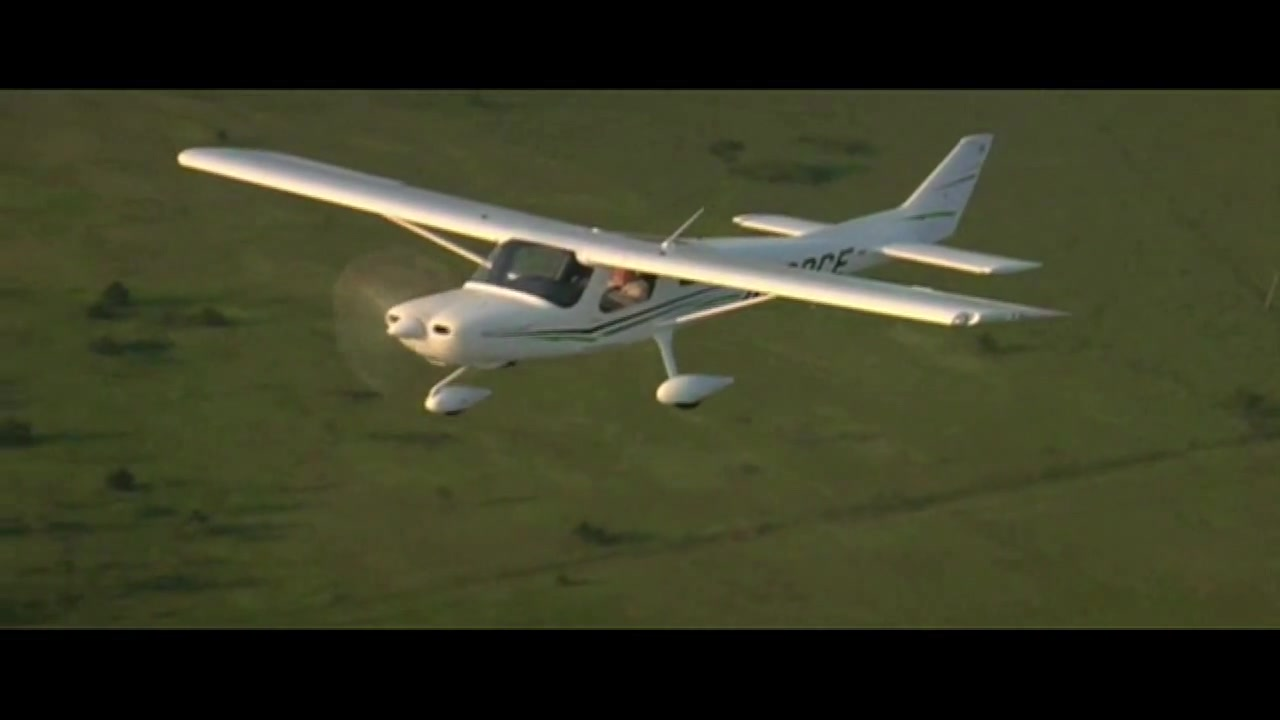aeroplane: (178, 133, 1071, 418)
